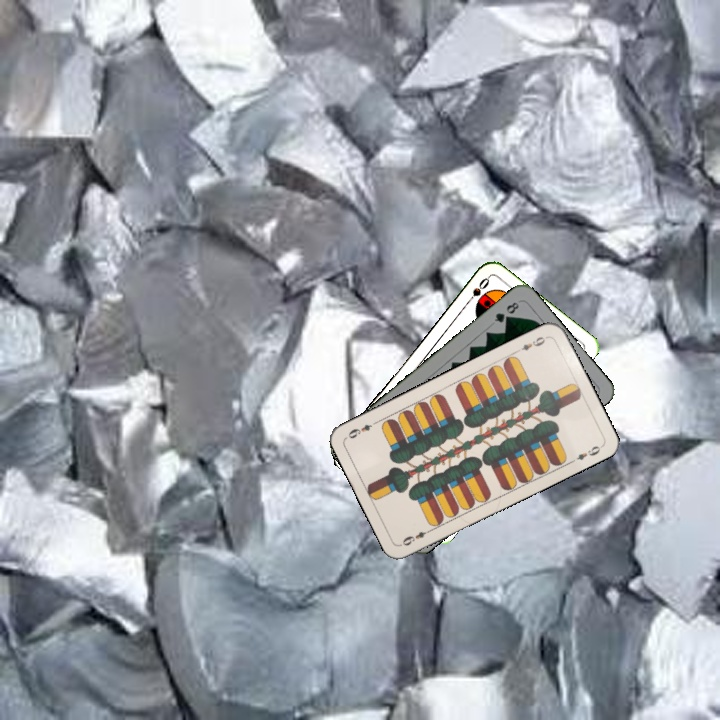E9: (398, 525, 435, 549), (517, 332, 550, 353)
G8: (490, 298, 522, 326)
SO: (462, 273, 492, 307)
